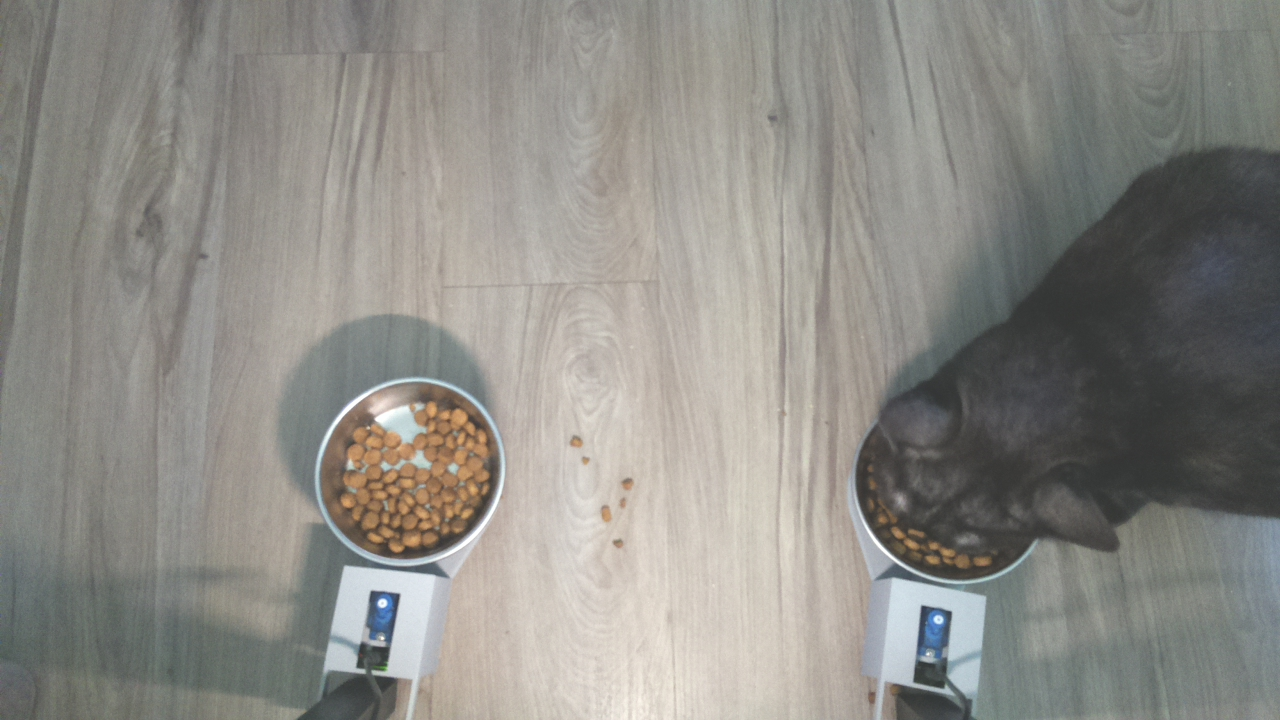open_bowl: (311, 375, 511, 569)
saki_eating: (849, 349, 1141, 591)
